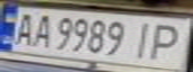8: (87, 16, 109, 55)
9: (103, 17, 133, 59), (66, 15, 90, 53), (51, 14, 75, 52)
A: (6, 10, 39, 47), (27, 11, 57, 48)
I: (127, 19, 160, 60)
P: (145, 20, 190, 62)
